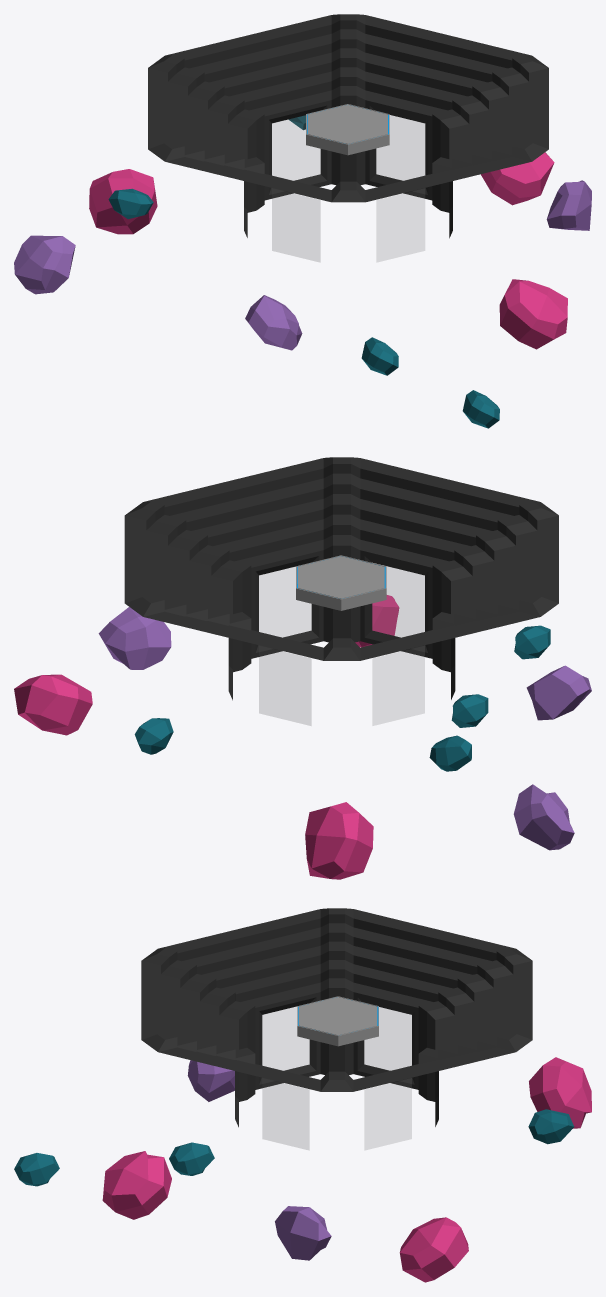
File: Sumo_Ball_Environment.FBX
The picture shows the model from 3 angles, top to bottom: view 1: azimuth 30°, elevation 25°; view 2: azimuth 150°, elevation 25°; view 3: azimuth 270°, elevation 25°; orthographic projection. The views are drawn at different scales.
Visible parts, largest first — view 1: Tube002, Ast_Rock_007, PlatformRing_1, Ast_Rock_3, Ast_Rock_2, Ast_Rock_005, Ast_Rock_006, Ast_Rock_009, Ast_Rock_010, Ast_Rock_008, Ast_Rock_004; view 2: Tube002, Ast_Rock_2, PlatformRing_1, Ast_Rock_005, Ast_Rock_009, Ast_Rock_3, Ast_Rock_006, Ast_Rock_004, Ast_Rock_1, Ast_Rock_010, Ast_Rock_008, Ast_Rock_007; view 3: Tube002, Ast_Rock_007, PlatformRing_1, Ast_Rock_005, Ast_Rock_2, Ast_Rock_009, Ast_Rock_006, Ast_Rock_1, Ast_Rock_008, Ast_Rock_010.
Boxes of the visible parts, box(x1,y1,x2,y2) form: Tube002: box(148, 14, 548, 261); Ast_Rock_007: box(499, 279, 567, 349); PlatformRing_1: box(306, 104, 389, 155); Ast_Rock_3: box(14, 235, 75, 294); Ast_Rock_2: box(89, 169, 157, 234); Ast_Rock_005: box(481, 152, 554, 205); Ast_Rock_006: box(245, 295, 302, 350); Ast_Rock_009: box(546, 180, 591, 230); Ast_Rock_010: box(361, 337, 398, 375); Ast_Rock_008: box(462, 390, 499, 428); Ast_Rock_004: box(108, 188, 153, 219); Tube002: box(124, 457, 558, 725); Ast_Rock_2: box(305, 802, 373, 879); PlatformRing_1: box(296, 555, 386, 610); Ast_Rock_005: box(14, 674, 92, 735); Ast_Rock_009: box(98, 607, 171, 669); Ast_Rock_3: box(513, 784, 574, 850); Ast_Rock_006: box(526, 665, 591, 720); Ast_Rock_004: box(429, 735, 471, 771); Ast_Rock_1: box(134, 718, 173, 754); Ast_Rock_010: box(451, 694, 488, 727); Ast_Rock_008: box(514, 625, 550, 659); Ast_Rock_007: box(355, 595, 399, 647); Tube002: box(141, 908, 532, 1149); Ast_Rock_007: box(102, 1151, 171, 1219); PlatformRing_1: box(297, 996, 378, 1046); Ast_Rock_005: box(399, 1217, 468, 1282); Ast_Rock_2: box(529, 1057, 591, 1128); Ast_Rock_009: box(275, 1206, 331, 1260); Ast_Rock_006: box(187, 1060, 234, 1101); Ast_Rock_1: box(528, 1109, 574, 1144); Ast_Rock_008: box(14, 1153, 59, 1186); Ast_Rock_010: box(169, 1142, 214, 1175).
Bounding box in the file's own units: 1391 × 522 × 1368.
